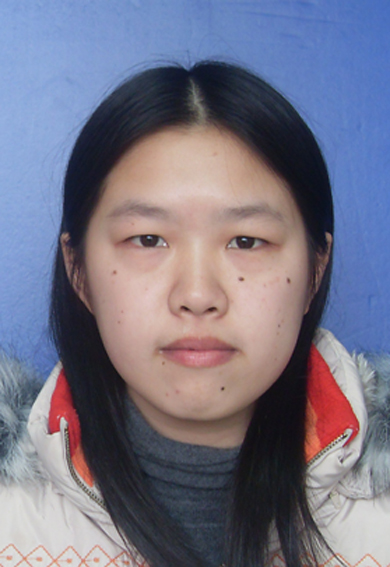unmask: (89, 153, 303, 411)
